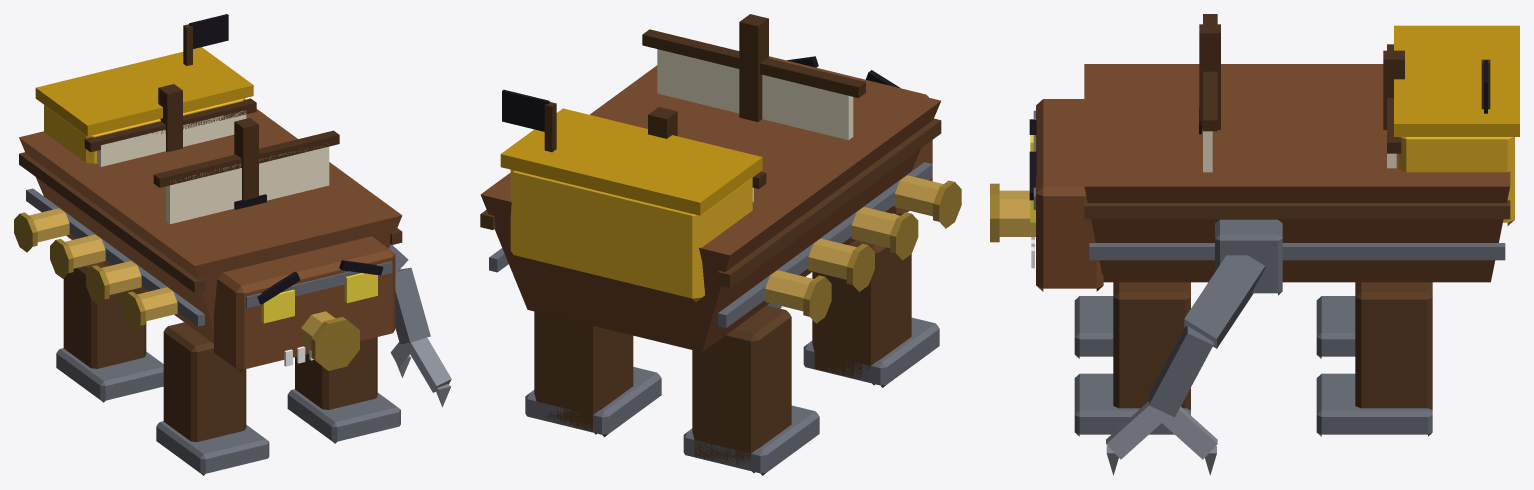
Rendered from r13_boss_iron_galleon.glb.
3 views of the same model, side by side, from view 1: azimuth 30°, elevation 25°; view 2: azimuth 150°, elevation 25°; view 3: azimuth 270°, elevation 25° (orthographic). The views are drawn at different scales.
Parts seen in each view (by area): view 1: r13_boss_iron_galleon_mesh; view 2: r13_boss_iron_galleon_mesh; view 3: r13_boss_iron_galleon_mesh.
Part boxes in pixels (<box>): r13_boss_iron_galleon_mesh: <box>14,14,451,475</box>; r13_boss_iron_galleon_mesh: <box>480,14,961,475</box>; r13_boss_iron_galleon_mesh: <box>990,14,1519,475</box>.
Size of the model in its own units: 8.62 by 8 by 10.75.
1 material, 1 textured.
